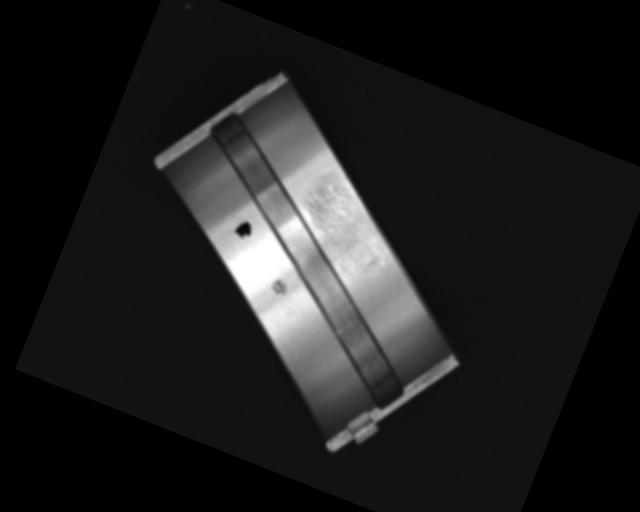blot: (229, 217, 255, 243)
bruise: (267, 275, 290, 299)
gap: (144, 110, 474, 412)
scratch: (285, 177, 399, 285)
